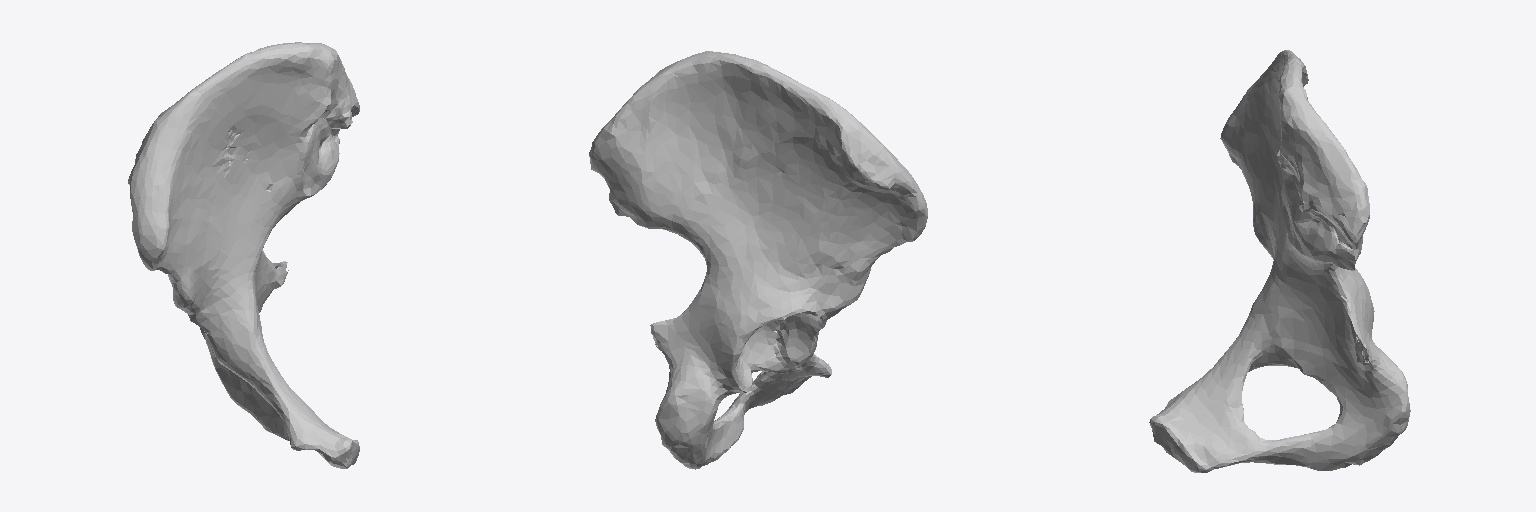
File: @@@EMIBACINO_prova3.obj
3 renders of one model, left to right at view 1: azimuth 30°, elevation 25°; view 2: azimuth 150°, elevation 25°; view 3: azimuth 270°, elevation 25°, orthographic.
Size of the model in its own units: 159 by 215 by 128.